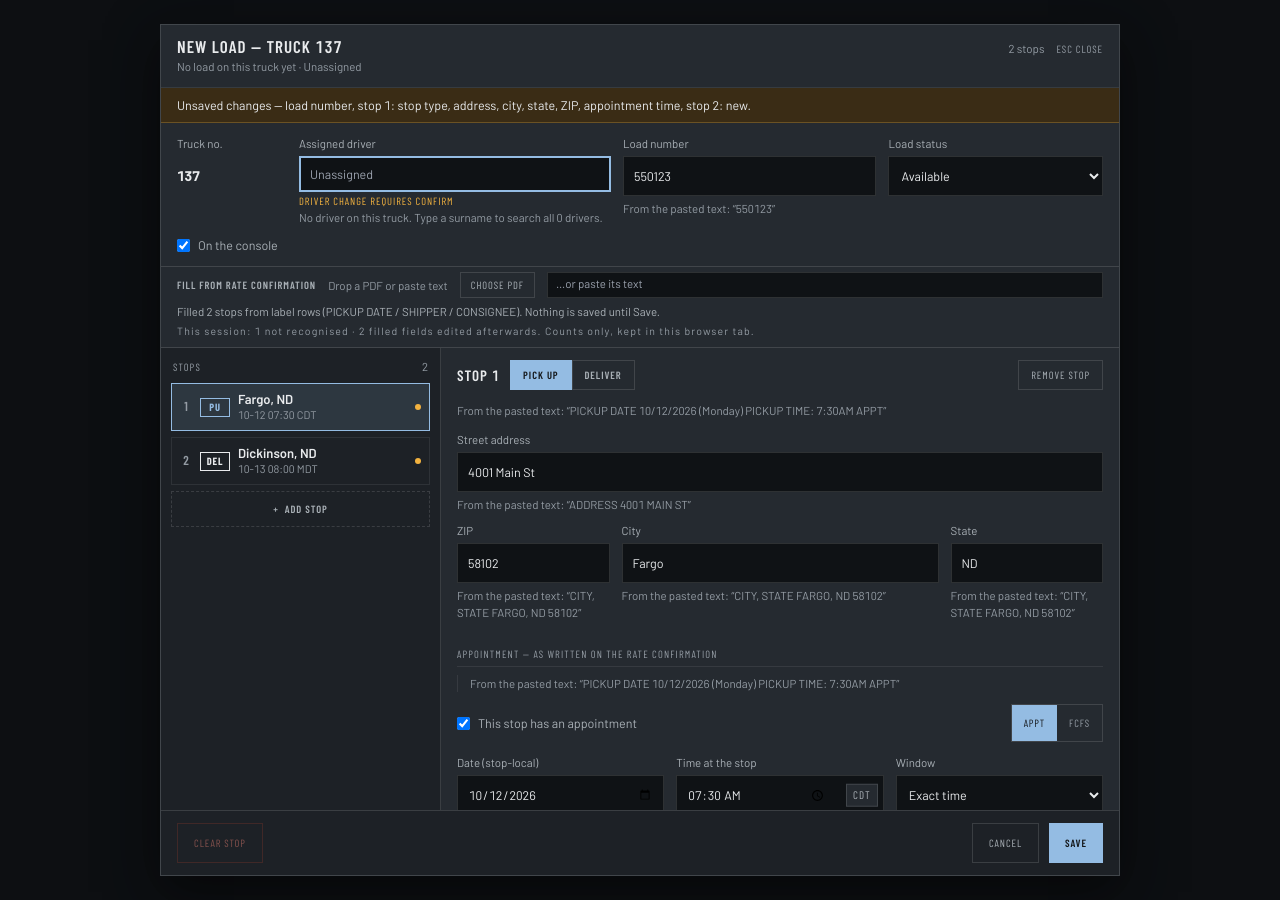
Test: Fill from rate confirmation (§12.122) › keeps a 90-minute window as 90 minutes, though the menu does not list it
Click the tab "2 DEL Dickinson, ND 10-13 08:00 MDT": coordinates (300, 461) [171,437,430,485]
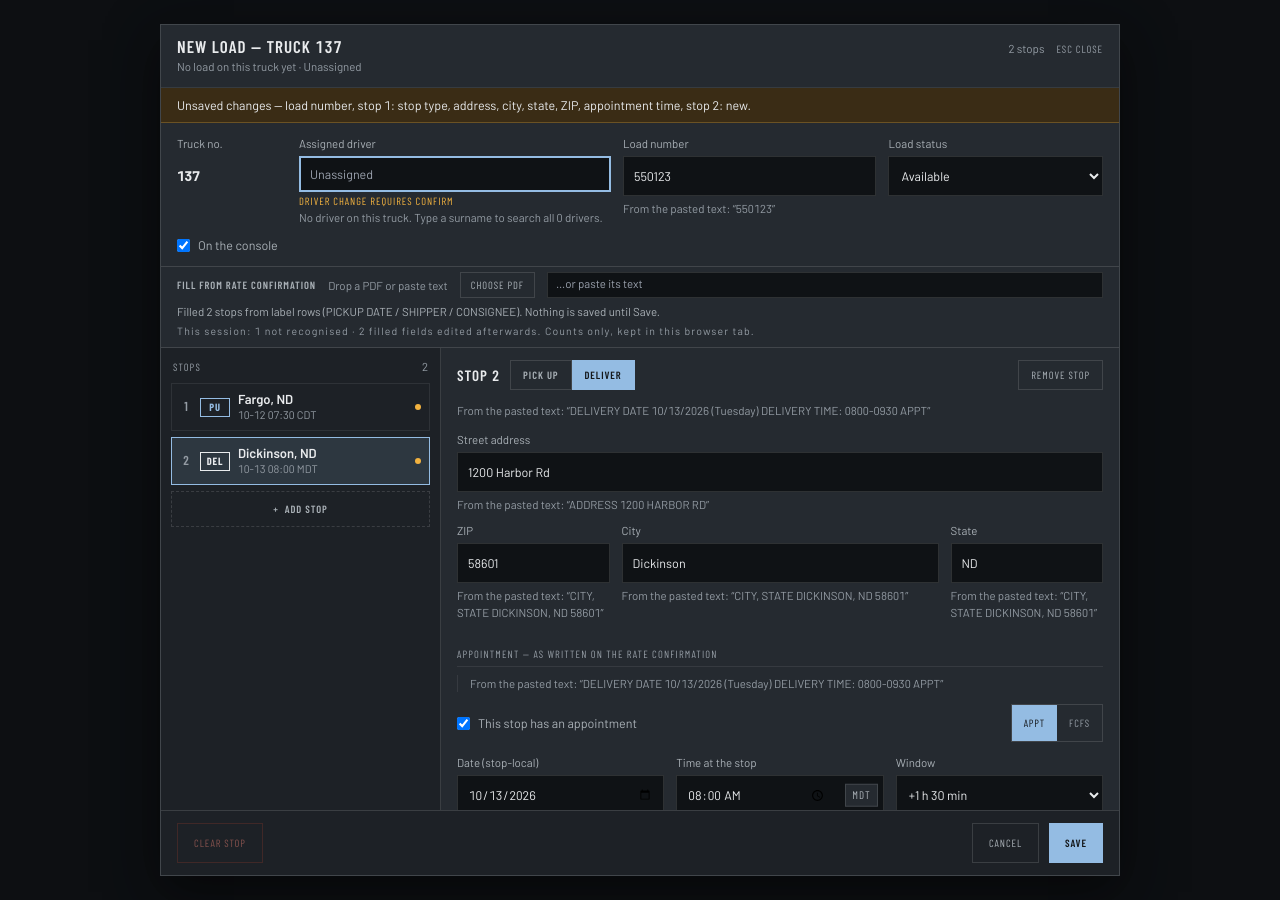
Result: the dropdown labelled "Window" shows "+1 h 30 min" at [896,775,1103,810]
